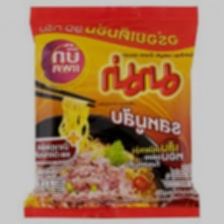snack: (17, 0, 209, 224)
